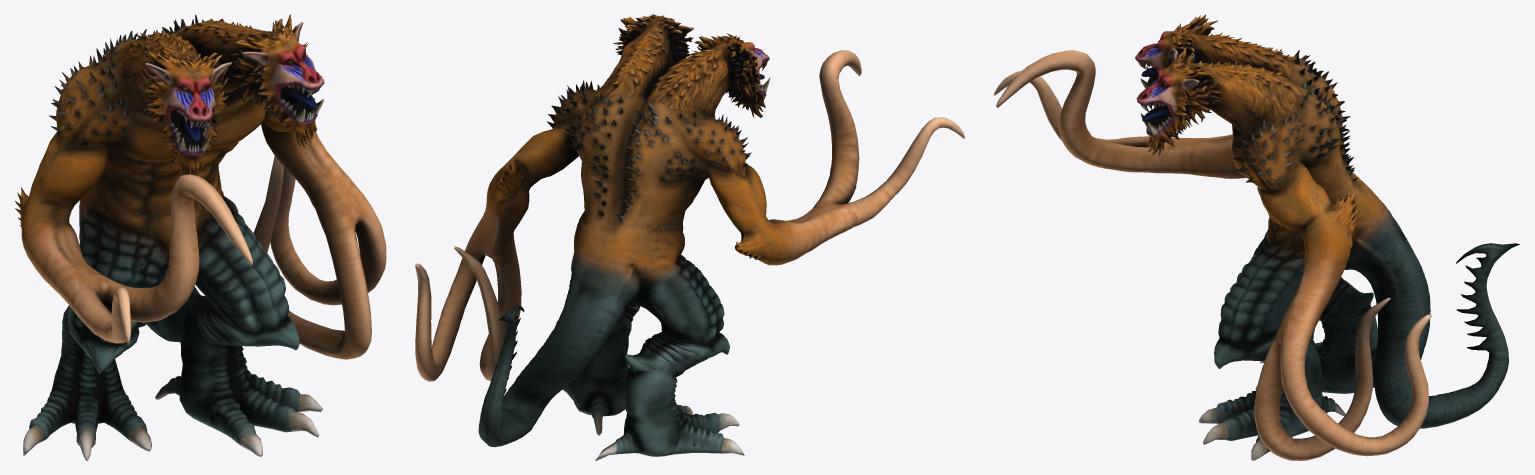
The model's file is MZ4250 - Demogorgon_alt.glb.
The picture shows the model from 3 angles, left to right: view 1: azimuth 30°, elevation 25°; view 2: azimuth 150°, elevation 25°; view 3: azimuth 270°, elevation 25°; orthographic projection. The views are drawn at different scales.
Parts seen in each view (by area): view 1: Torso.001; view 2: Torso.001; view 3: Torso.001.
Boxes of the visible parts, x1,y1,x2,y2 form: Torso.001: (15,14,386,460); Torso.001: (415,14,964,460); Torso.001: (993,14,1519,460).
Size of the model in its own units: 3.43 by 3.26 by 4.22.
Materials: 1 (1 with a texture image).
